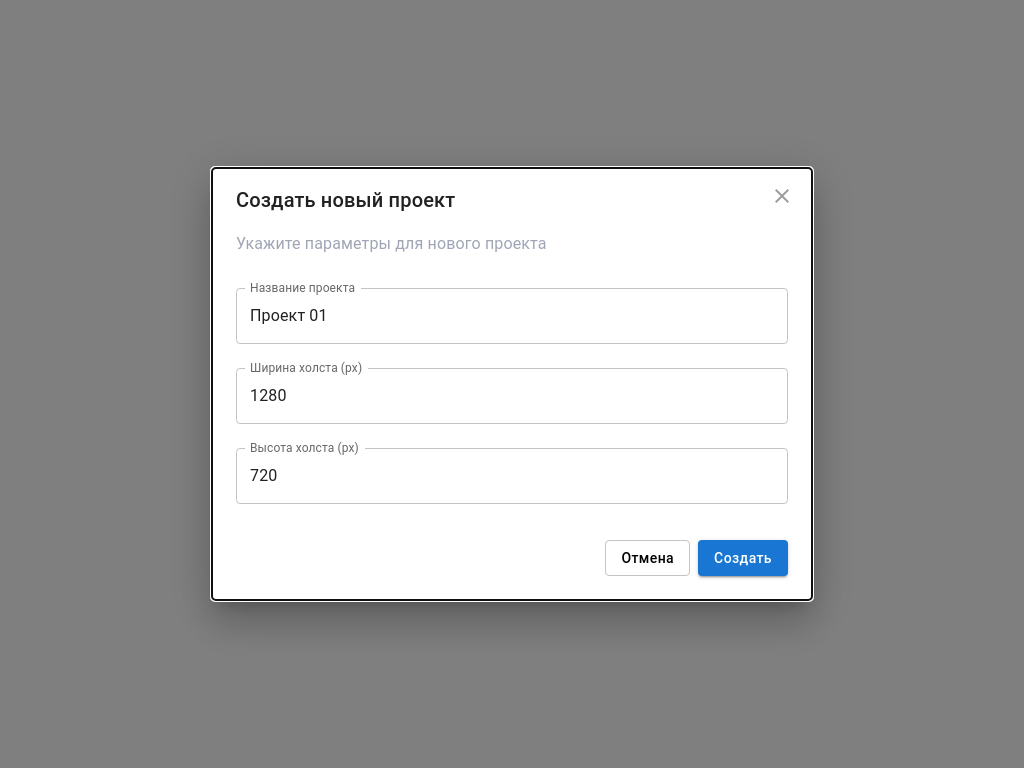
Test case: Modal Component › the create button is disabled when any validation error exists
Expected: the button "Создать" is enabled, [698,540,788,576]
Step 1. Clear the field labelled "Название проекта" → [512, 316], box [236,288,788,344]
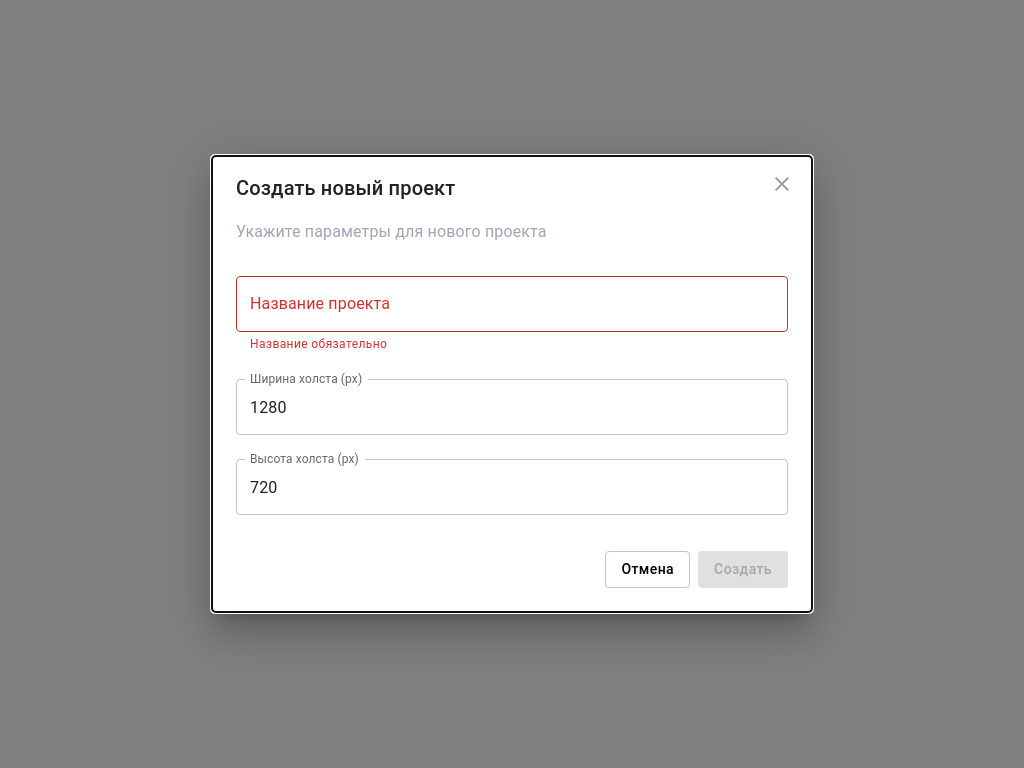
Expected: the button "Создать" is disabled, [698,551,788,588]
